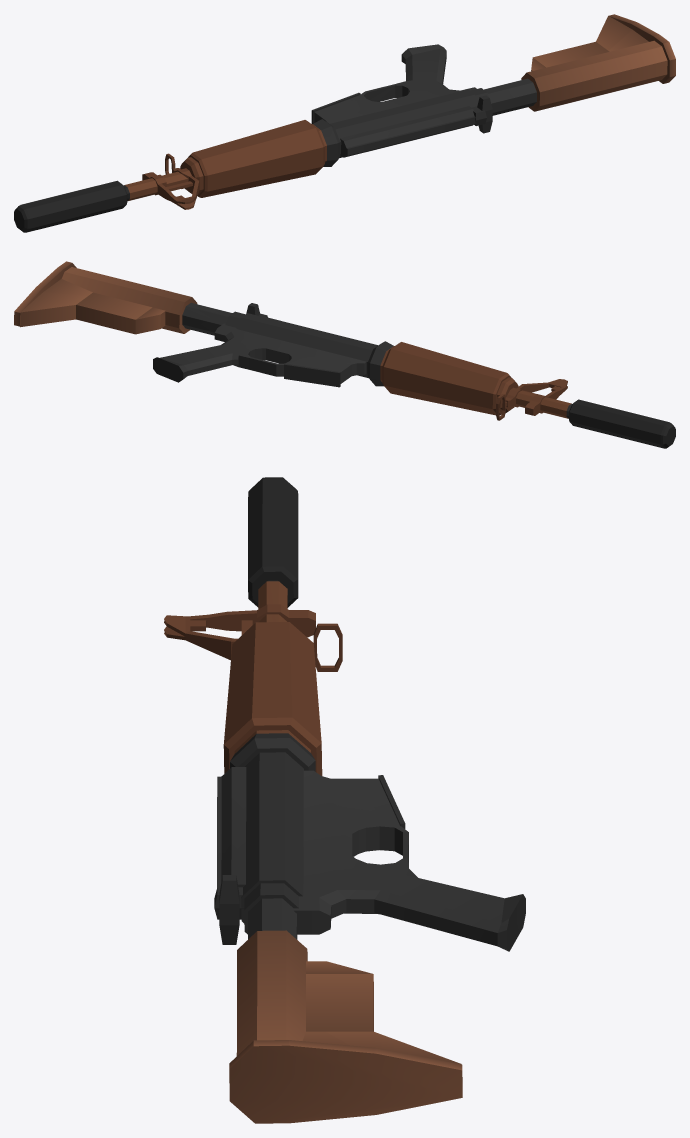
File: robotmaingun1.fbx
The picture shows the model from 3 angles, top to bottom: view 1: azimuth 30°, elevation 25°; view 2: azimuth 150°, elevation 25°; view 3: azimuth 270°, elevation 25°; orthographic projection. The views are drawn at different scales.
Parts seen in each view (by area): view 1: MA4; view 2: MA4; view 3: MA4.
Boxes of the visible parts, x1=… form: MA4: x1=14, y1=14, x2=675, y2=232; MA4: x1=14, y1=261, x2=675, y2=448; MA4: x1=164, y1=477, x2=525, y2=1123.
Size of the model in its own units: 4.62 by 0.3238 by 1.19.
